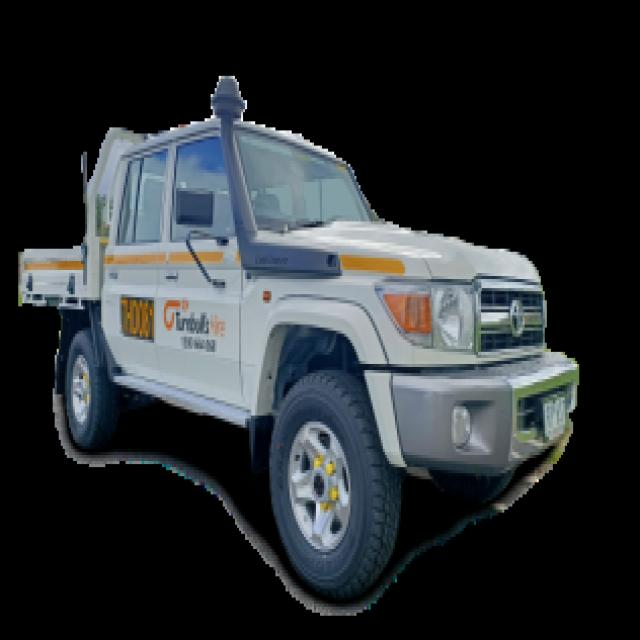light_vehicle: (10, 94, 575, 595)
